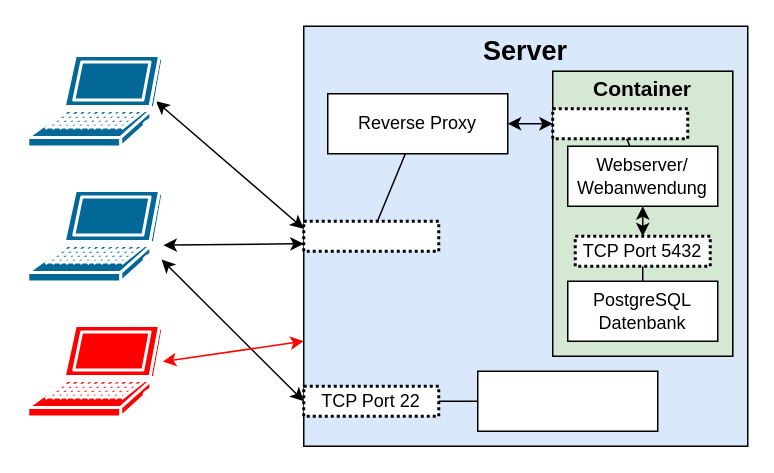
Some shapes in this 774 by 473 pixel diagram are drawn without their labels. Here are the shapes that lost their labels. From the top down, the centre of each, then its label:
(619,123): TCP Port 8080
(371,235): TCP Port 443
(567,400): SSH Server
